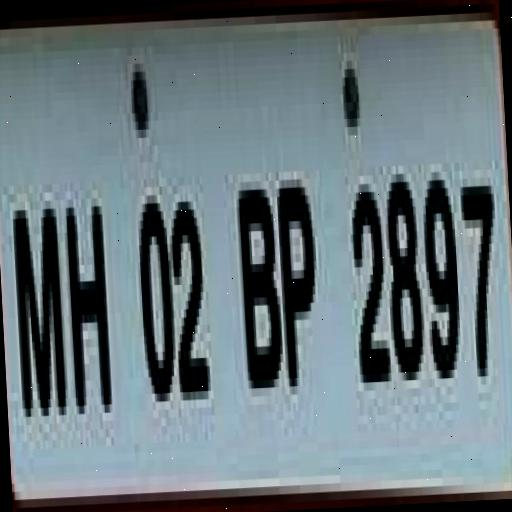number plate: (0, 29, 501, 500)
